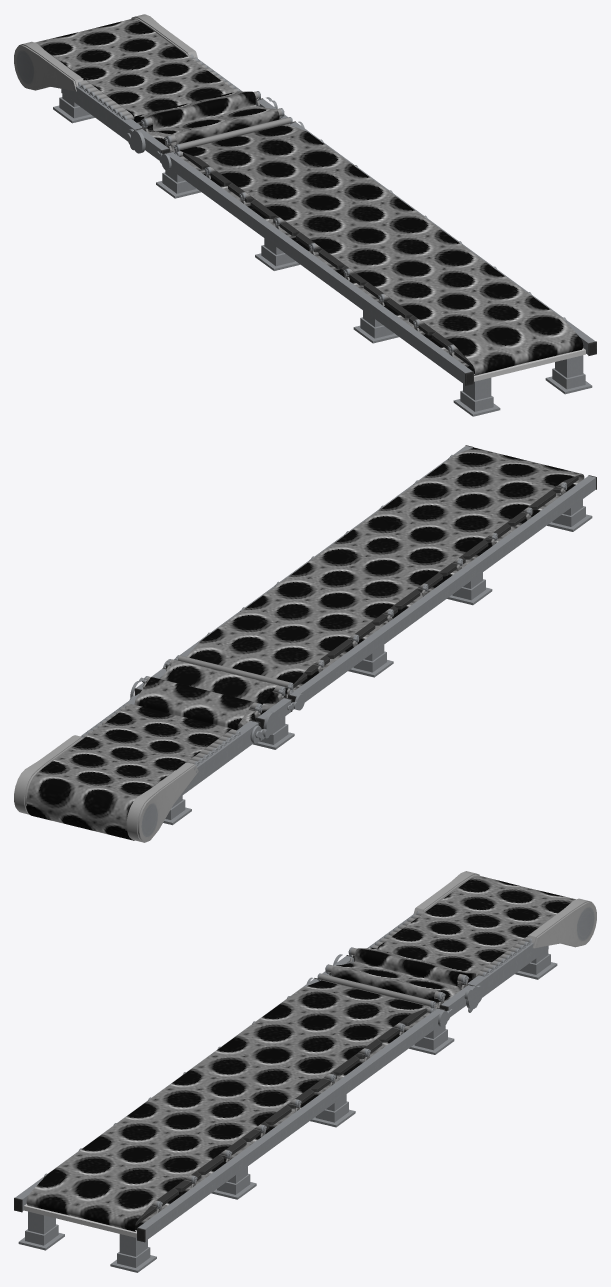
File: conveyorTest.gltf
3 renders of one model, top to bottom at view 1: azimuth 30°, elevation 25°; view 2: azimuth 150°, elevation 25°; view 3: azimuth 330°, elevation 25°, orthographic.
Parts seen in each view (by area): view 1: Conveyor, Legs, InnerRectangles, Piece02, Roller008, bl19, Object154, Piece01, Object156, OuterBar08, OuterBar07, OuterBar06 (+7 smaller); view 2: Conveyor, Legs, Piece02, InnerRectangles, Piece01, Roller008, Object154, Object156, OuterBar07, OuterBar09, OuterBar08, OuterBar06 (+6 smaller); view 3: Conveyor, Legs, InnerRectangles, Piece01, Roller008, bl19, Object257, Piece02, Object258, OuterBar17, OuterBar20, OuterBar19 (+7 smaller).
Boxes of the visible parts, x1=… form: Conveyor: x1=35, y1=18, x2=583, y2=375; Legs: x1=53, y1=94, x2=592, y2=416; InnerRectangles: x1=183, y1=152, x2=454, y2=351; Piece02: x1=14, y1=41, x2=83, y2=91; Roller008: x1=173, y1=117, x2=292, y2=151; bl19: x1=474, y1=348, x2=585, y2=381; Object154: x1=99, y1=103, x2=141, y2=141; Piece01: x1=131, y1=14, x2=197, y2=58; Object156: x1=61, y1=86, x2=102, y2=120; OuterBar08: x1=220, y1=192, x2=254, y2=225; OuterBar07: x1=247, y1=212, x2=281, y2=245; OuterBar06: x1=274, y1=232, x2=308, y2=265; Conveyor: x1=26, y1=447, x2=584, y2=840; Legs: x1=154, y1=499, x2=592, y2=825; Piece02: x1=126, y1=762, x2=198, y2=842; InnerRectangles: x1=293, y1=490, x2=555, y2=688; Piece01: x1=14, y1=735, x2=83, y2=814; Roller008: x1=174, y1=655, x2=293, y2=694; Object154: x1=218, y1=720, x2=258, y2=766; Object156: x1=182, y1=750, x2=220, y2=795; OuterBar07: x1=371, y1=615, x2=405, y2=648; OuterBar09: x1=317, y1=655, x2=350, y2=688; OuterBar08: x1=344, y1=635, x2=378, y2=668; OuterBar06: x1=398, y1=595, x2=432, y2=628; Conveyor: x1=26, y1=875, x2=575, y2=1231; Legs: x1=18, y1=950, x2=557, y2=1272; InnerRectangles: x1=156, y1=1008, x2=427, y2=1207; Piece01: x1=527, y1=898, x2=596, y2=948; Roller008: x1=317, y1=973, x2=436, y2=1008; bl19: x1=23, y1=1204, x2=136, y2=1237; Object257: x1=467, y1=959, x2=510, y2=997; Piece02: x1=413, y1=871, x2=479, y2=914; Object258: x1=508, y1=942, x2=548, y2=976; OuterBar17: x1=247, y1=1128, x2=281, y2=1161; OuterBar20: x1=165, y1=1188, x2=199, y2=1221; OuterBar19: x1=192, y1=1168, x2=226, y2=1201.
Size of the model in its own units: 8.02 by 3.14 by 46.9.
